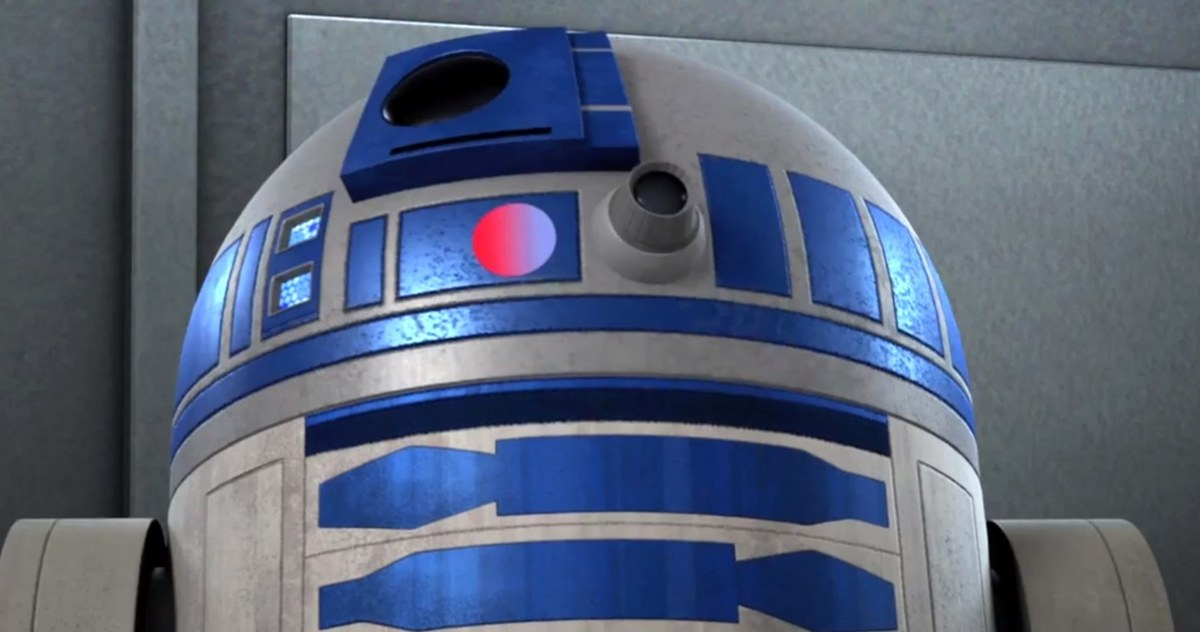r2d2: (1, 26, 1174, 632)
